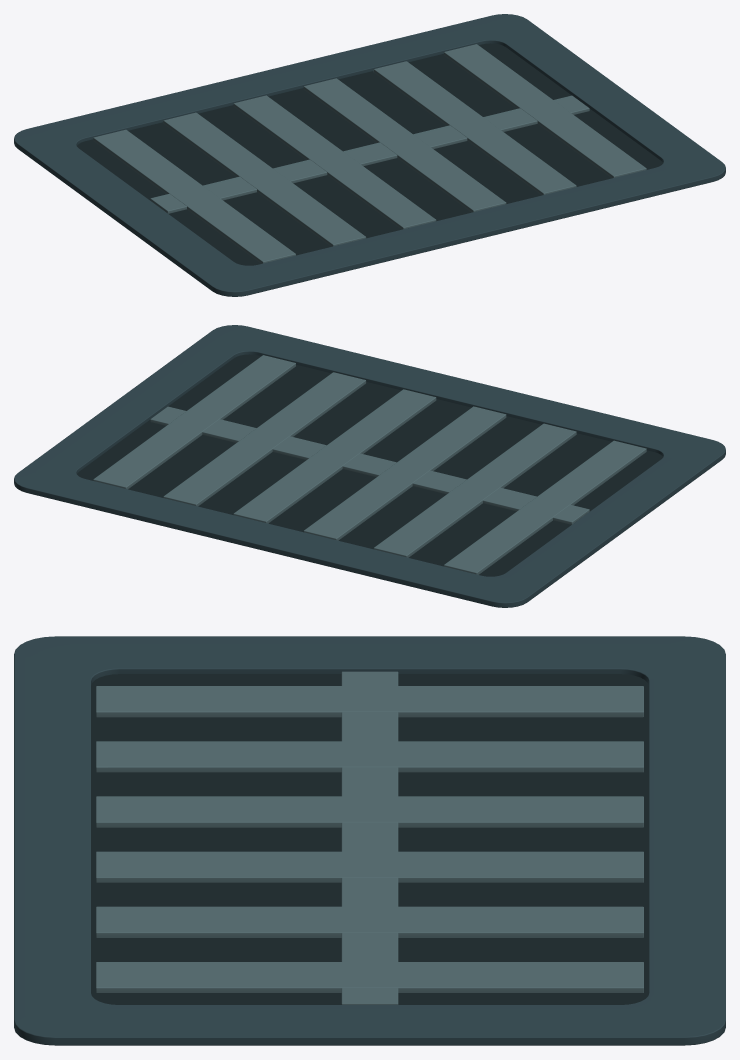
Rendered from city_service_furniture_02.glb.
3 views of the same model, one above another, from view 1: azimuth 30°, elevation 25°; view 2: azimuth 150°, elevation 25°; view 3: azimuth 270°, elevation 25° (orthographic). The views are drawn at different scales.
Visible parts, largest first — view 1: CityServiceFurniture02_Mesh; view 2: CityServiceFurniture02_Mesh; view 3: CityServiceFurniture02_Mesh.
Part boxes in pixels (box(x1,y1,x2,y2)): CityServiceFurniture02_Mesh: box(14, 14, 725, 296); CityServiceFurniture02_Mesh: box(14, 325, 725, 607); CityServiceFurniture02_Mesh: box(14, 636, 725, 1045).
Bounding box in the file's own units: 0.8 × 0.008 × 0.6.
